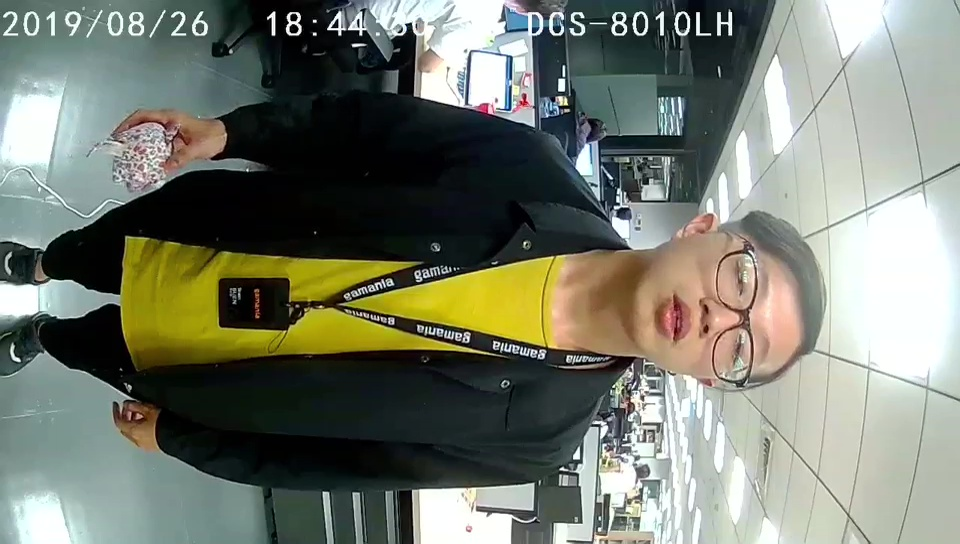pig: (111, 117, 179, 193)
